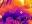Hotspot: (15, 0, 32, 6), (26, 8, 31, 15), (0, 0, 3, 6), (0, 15, 2, 19), (29, 20, 31, 23)
